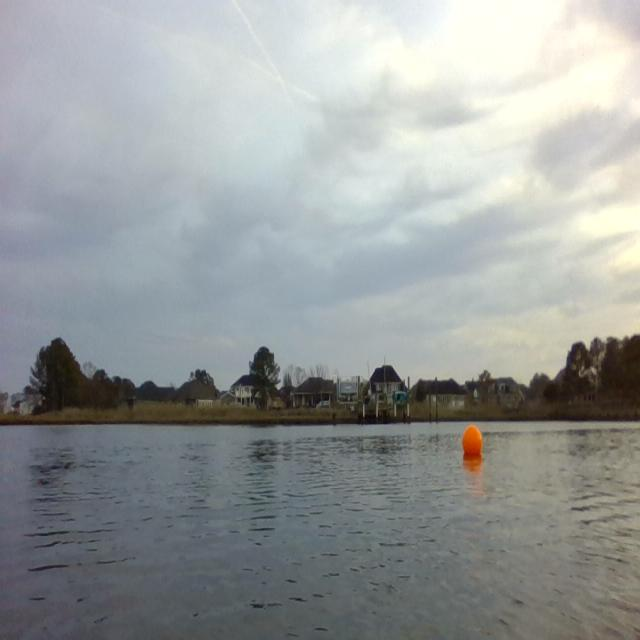Buoy: (461, 422, 483, 463)
